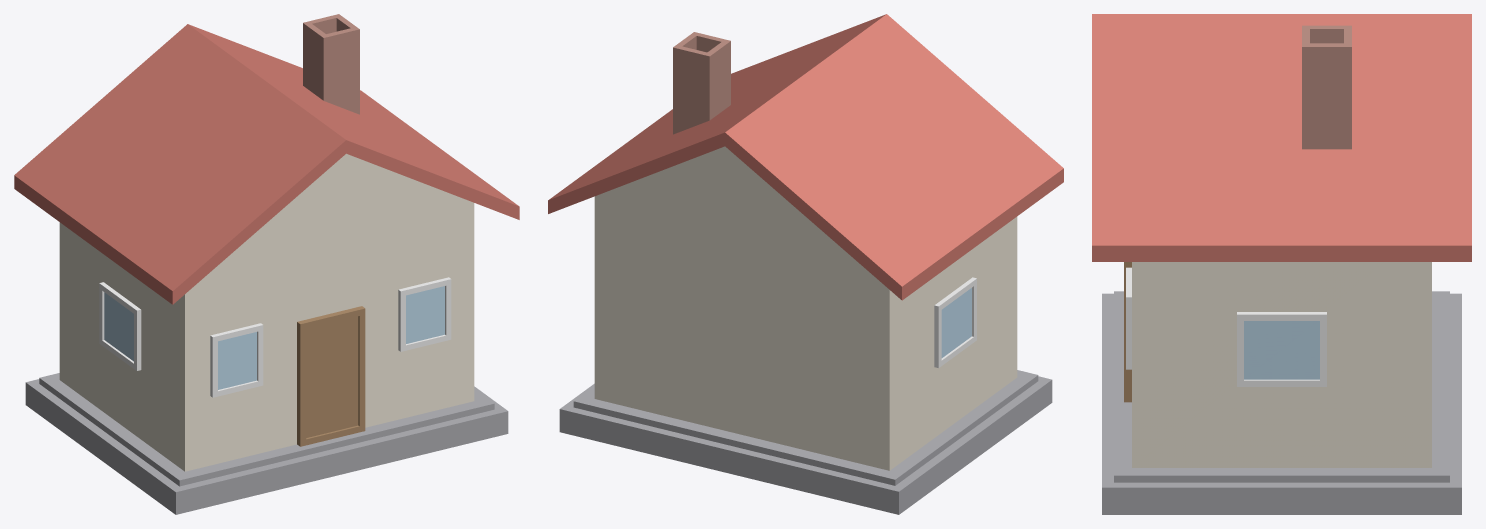
File: lowpoly_house.glb
3 views of the same model, side by side, from view 1: azimuth 30°, elevation 25°; view 2: azimuth 150°, elevation 25°; view 3: azimuth 270°, elevation 25° (orthographic). The views are drawn at different scales.
Visible parts, largest first — view 1: Body, Roof, Foundation, Door, Window_FrontL, Window_FrontR, Window_SideL; view 2: Body, Roof, Foundation, Window_SideL; view 3: Roof, Body, Foundation, Window_SideR, Window_FrontR, Door.
Boxes of the visible parts, x1,y1,x2,y2 form: Body: (59,153,474,471); Roof: (14,14,519,304); Foundation: (25,373,508,514); Door: (297,306,365,446); Window_FrontL: (210,323,263,397); Window_FrontR: (398,277,451,351); Window_SideL: (99,282,141,370); Body: (594,146,1017,470); Roof: (548,14,1063,300); Foundation: (559,370,1052,514); Window_SideL: (934,277,976,368); Roof: (1092,14,1471,261); Body: (1132,262,1431,467); Foundation: (1102,291,1461,514); Window_SideR: (1237,312,1326,386); Window_FrontR: (1126,267,1131,369); Door: (1124,262,1131,402).
Size of the model in its own units: 4.8 by 4.75 by 3.8.
